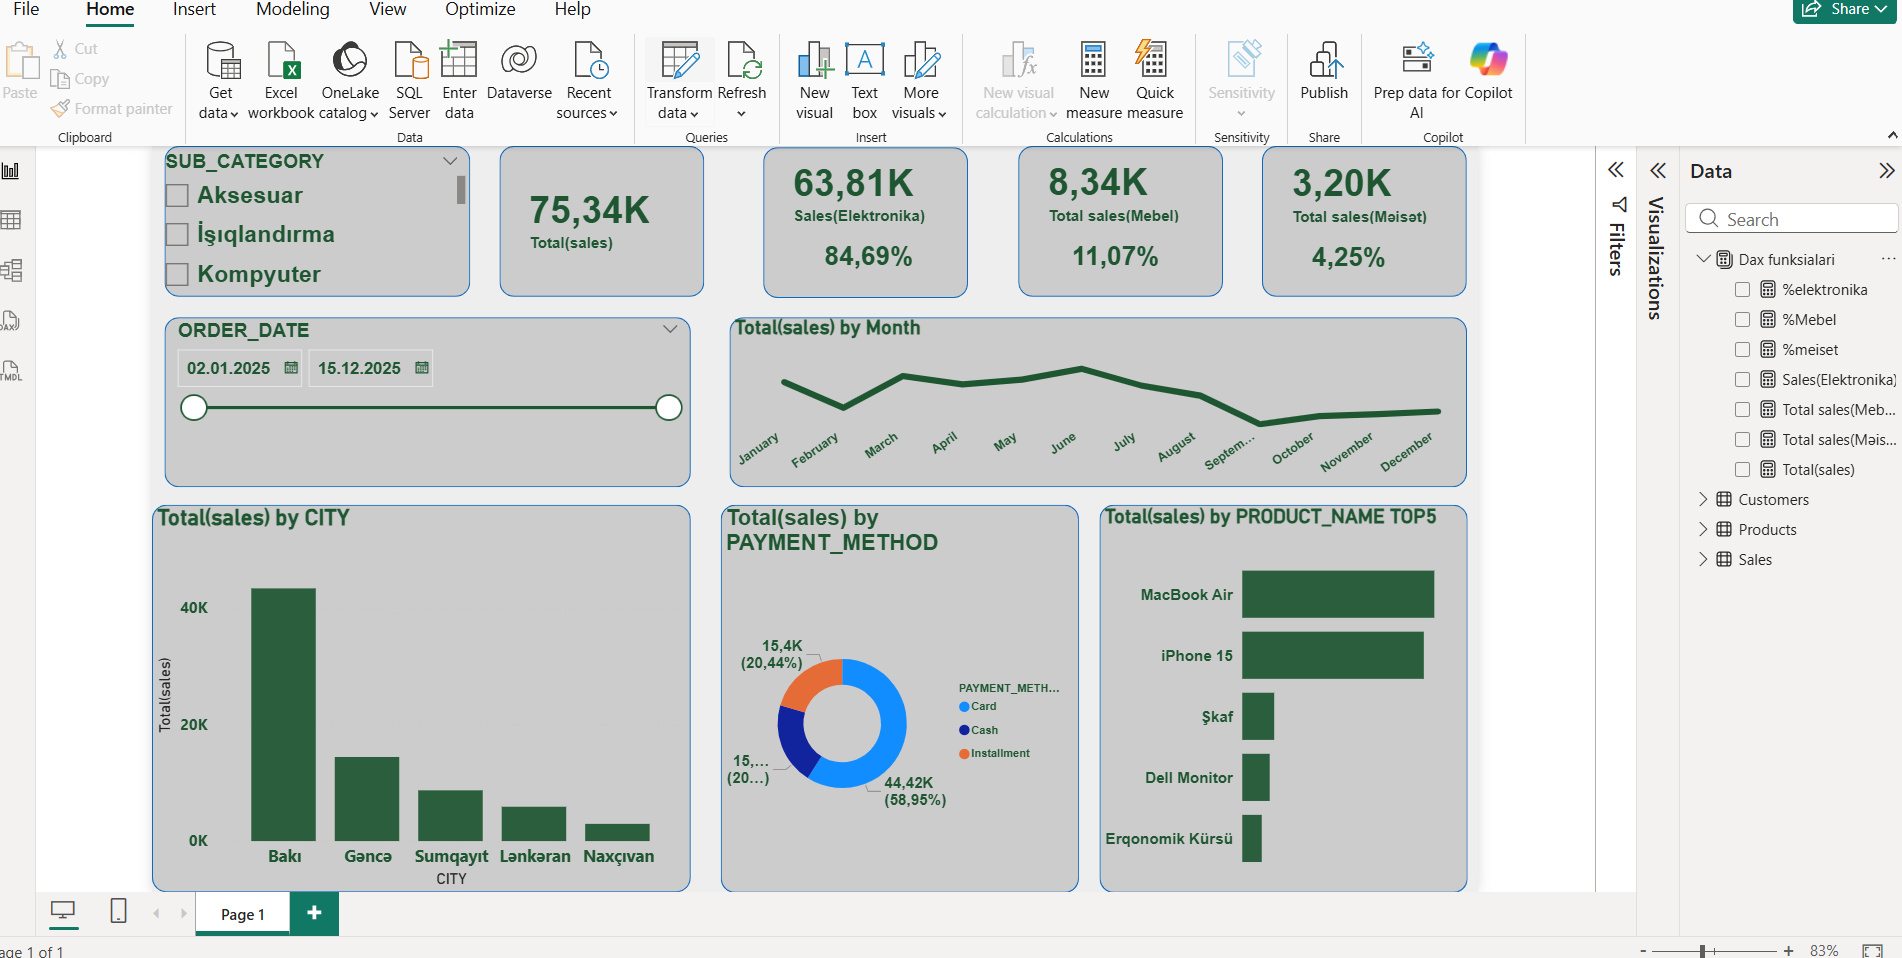

What the dashboard file says about the page in this screenshot:
{"tool":"powerbi","page":{"name":"Page 1","canvas":[1280,720],"ordinal":0},"visuals":[{"type":"shape","box":[334.8,0,197.6,145.5],"z":0},{"type":"shape","box":[590.1,1.4,197.6,145.5],"z":1000},{"type":"shape","box":[835.7,0,197.6,145.5],"z":2000},{"type":"shape","box":[1071.7,0,197.6,145.5],"z":3000},{"type":"shape","box":[12.3,0,295,145.5],"z":4000},{"type":"cardVisual","fields":{"Data":["Dax funksialari.Total(sales)"]},"box":[334.8,0,197.6,145.5],"z":5000},{"type":"cardVisual","fields":{"Data":["Dax funksialari.Total sales(Elektronika)"]},"box":[590.1,0,197.6,93.3],"z":6000},{"type":"cardVisual","fields":{"Data":["Dax funksialari.Total sales(Mebel)"]},"box":[835.7,0,197.6,91.9],"z":7000},{"type":"cardVisual","fields":{"Data":["Dax funksialari.Total sales(Məisət)"]},"box":[1071.7,1.4,197.6,91.9],"z":8000},{"type":"cardVisual","fields":{"Data":["Dax funksialari.%elektronika"]},"box":[620.2,74.1,148.2,64.5],"z":9000},{"type":"cardVisual","fields":{"Data":["Dax funksialari.%Mebel"]},"box":[859,74.1,150.9,64.5],"z":10000},{"type":"cardVisual","fields":{"Data":["Dax funksialari.%meiset"]},"box":[1090.9,72.7,135.8,67.2],"z":11000},{"type":"shape","box":[0,346.2,520,374],"z":12000},{"type":"slicer","fields":{"Values":["Products.SUB_CATEGORY"]},"box":[0,0,307.6,146],"z":13000},{"type":"shape","box":[548.9,345.8,345.8,374.6],"z":14000},{"type":"lineClusteredColumnComboChart","fields":{"Category":["Customers.CITY"],"Y":["Dax funksialari.Total(sales)"]},"box":[0,346.2,520,374],"z":15000},{"type":"shape","box":[12.1,165.3,507.9,164.1],"z":16000},{"type":"slicer","fields":{"Values":["Sales.ORDER_DATE"]},"box":[12.1,162.9,507.9,165.3],"z":17000},{"type":"donutChart","fields":{"Y":["Dax funksialari.Total(sales)"],"Category":["Sales.PAYMENT_METHOD"]},"box":[548.9,345.8,345.8,374.6],"z":18000},{"type":"shape","box":[557.4,165.3,711.8,164.1],"z":19000},{"type":"shape","box":[913.9,345.8,355.4,374.6],"z":20000},{"type":"barChart","title":"Total(sales) by PRODUCT_NAME TOP5","fields":{"Category":["Products.PRODUCT_NAME"],"Y":["Dax funksialari.Total(sales)"]},"box":[913.9,345.8,355.4,374.6],"z":21000},{"type":"lineChart","fields":{"Category":["Sales.ORDER_DATE.Variation.Date Hierarchy.Month"],"Y":["Dax funksialari.Total(sales)"]},"box":[557.1,164.7,712.2,164.7],"z":22000}]}

Visuals, with their boxes on the page's 1280x720 design canvas (x1, y1, x2, y2). These are canvas units, not pixel positions in the 1902x958 screenshot, which may show the page scaled, cropped or inside an application window:
shape: locate(335, 0, 532, 146)
shape: locate(590, 1, 788, 147)
shape: locate(836, 0, 1033, 146)
shape: locate(1072, 0, 1269, 146)
shape: locate(12, 0, 307, 146)
cardVisual - Dax funksialari.Total(sales): locate(335, 0, 532, 146)
cardVisual - Dax funksialari.Total sales(Elektronika): locate(590, 0, 788, 93)
cardVisual - Dax funksialari.Total sales(Mebel): locate(836, 0, 1033, 92)
cardVisual - Dax funksialari.Total sales(Məisət): locate(1072, 1, 1269, 93)
cardVisual - Dax funksialari.%elektronika: locate(620, 74, 768, 139)
cardVisual - Dax funksialari.%Mebel: locate(859, 74, 1010, 139)
cardVisual - Dax funksialari.%meiset: locate(1091, 73, 1227, 140)
shape: locate(0, 346, 520, 720)
slicer - Products.SUB_CATEGORY: locate(0, 0, 308, 146)
shape: locate(549, 346, 895, 720)
lineClusteredColumnComboChart - Customers.CITY x Dax funksialari.Total(sales): locate(0, 346, 520, 720)
shape: locate(12, 165, 520, 329)
slicer - Sales.ORDER_DATE: locate(12, 163, 520, 328)
donutChart - Dax funksialari.Total(sales) x Sales.PAYMENT_METHOD: locate(549, 346, 895, 720)
shape: locate(557, 165, 1269, 329)
shape: locate(914, 346, 1269, 720)
"Total(sales) by PRODUCT_NAME TOP5" barChart: locate(914, 346, 1269, 720)
lineChart - Sales.ORDER_DATE.Variation.Date Hierarchy.Month x Dax funksialari.Total(sales): locate(557, 165, 1269, 329)
